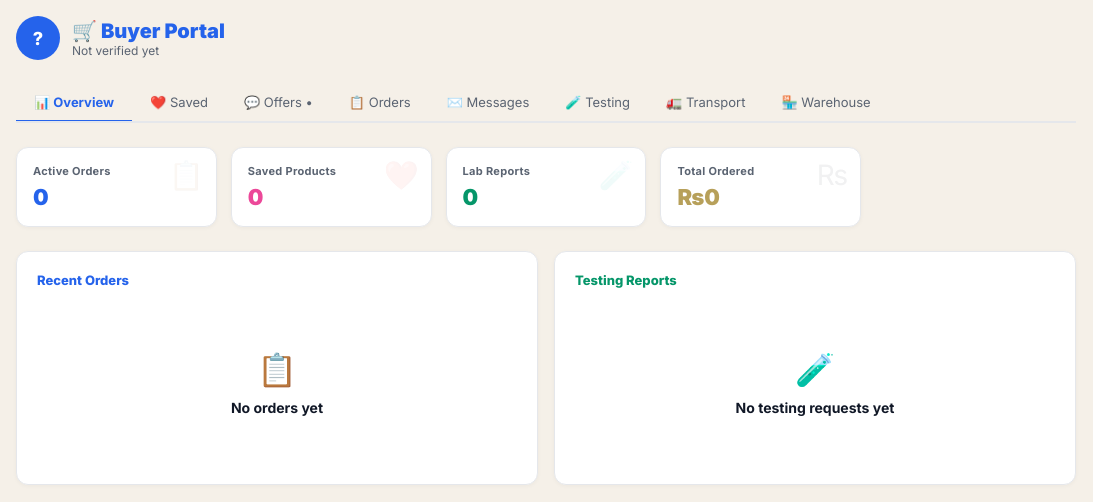
Test: Buyer → Offers tab (counter-offer decisions) › shows the seller counter price and the total
The width and height of the screenshot is (1093, 502).
Click the tab "💬 Offers •" at (278, 104), box x1=226 y1=84 x2=331 y2=123
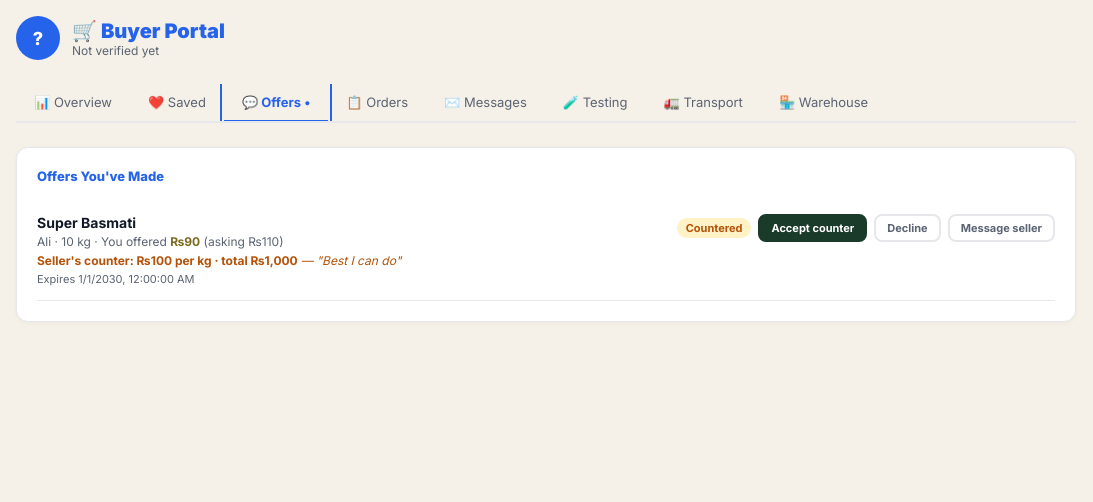
Expected: the text "Seller's counter: ₨100 per kg · total ₨1,000" is shown, x1=37 y1=253 x2=401 y2=268
Expected: the button "Accept counter" is shown, x1=758 y1=214 x2=867 y2=242
Expected: the button "Decline" is shown, x1=874 y1=214 x2=941 y2=242
